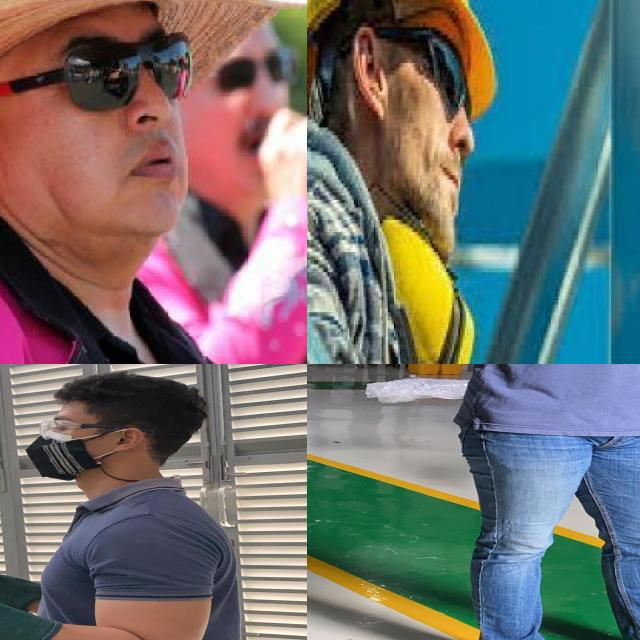No_Ear-Protection: (348, 29, 392, 134)
face_mask: (21, 416, 115, 482)
face_nomask: (76, 44, 202, 200), (388, 65, 473, 259)
glasses: (43, 39, 205, 114), (377, 27, 470, 114), (210, 51, 306, 99), (33, 416, 161, 444)
hand_noglove: (254, 108, 307, 206)
head_helmet: (408, 0, 494, 117)
head_nohelmet: (44, 368, 184, 410)
person: (0, 364, 291, 640), (410, 364, 640, 640)
